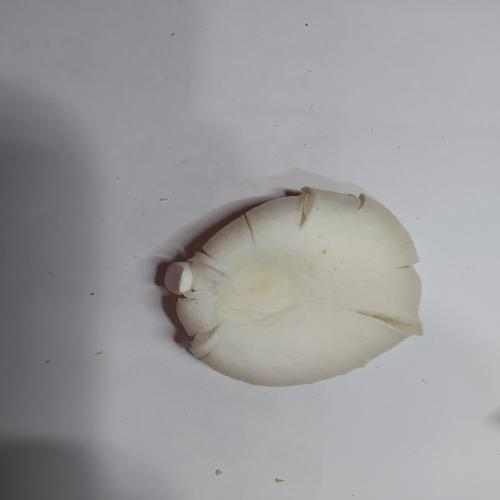Oyster Mushroom: (162, 185, 425, 387)
